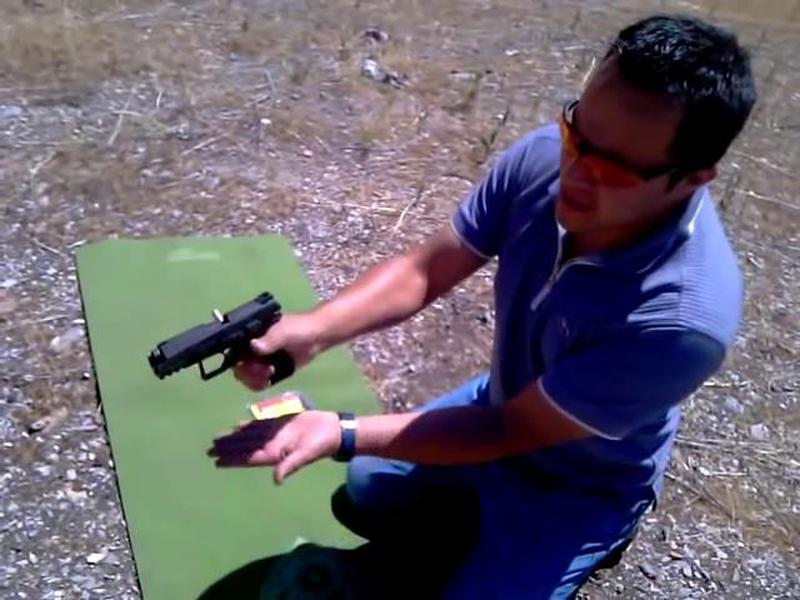Pistola: (137, 283, 322, 406)
